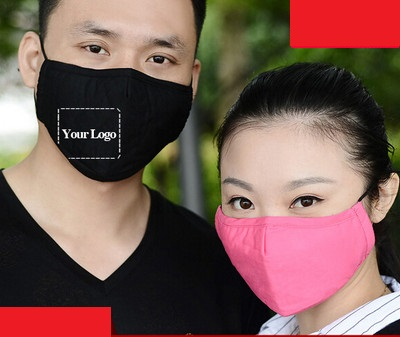face_mask: (215, 121, 367, 310), (44, 1, 192, 179)
